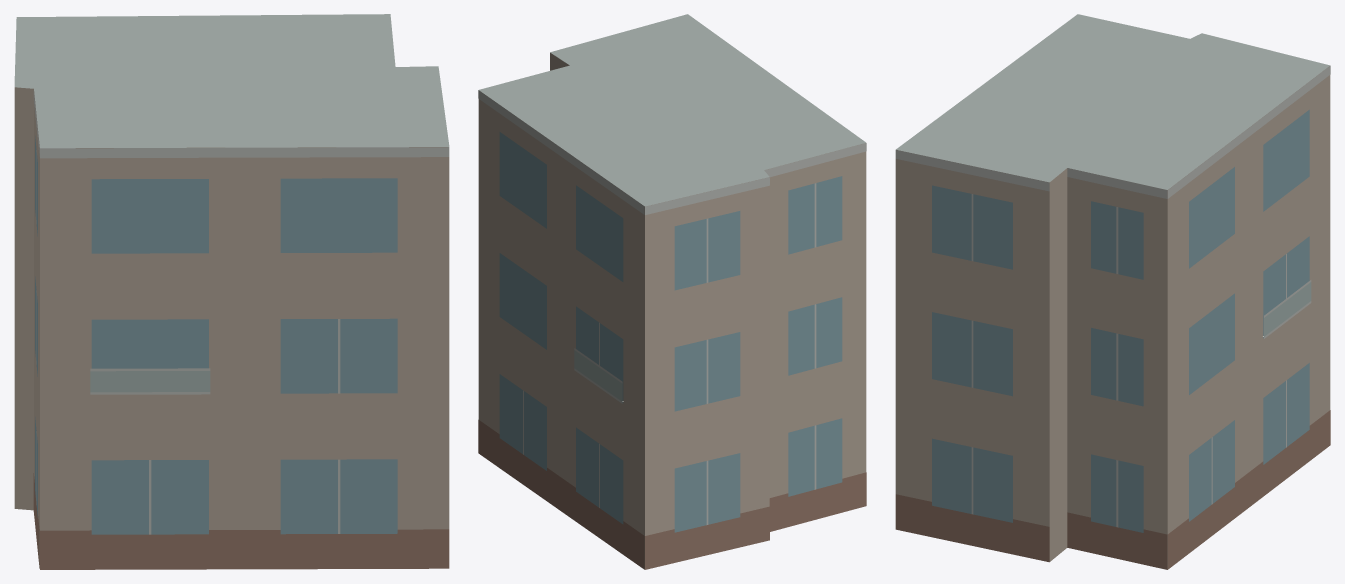
The model's file is survey-upis-32510601.glb.
The picture shows the model from 3 angles, left to right: view 1: azimuth 30°, elevation 25°; view 2: azimuth 150°, elevation 25°; view 3: azimuth 270°, elevation 25°; orthographic projection. The views are drawn at different scales.
Parts seen in each view (by area): view 1: survey-upis-32510601.tmp; view 2: survey-upis-32510601.tmp; view 3: survey-upis-32510601.tmp.
Boxes of the visible parts, left/top/right/bottom form: survey-upis-32510601.tmp: left=14, top=14, right=449, bottom=569; survey-upis-32510601.tmp: left=478, top=14, right=866, bottom=569; survey-upis-32510601.tmp: left=895, top=14, right=1330, bottom=569.
Bounding box in the file's own units: 10.15 × 10.2 × 10.59.
